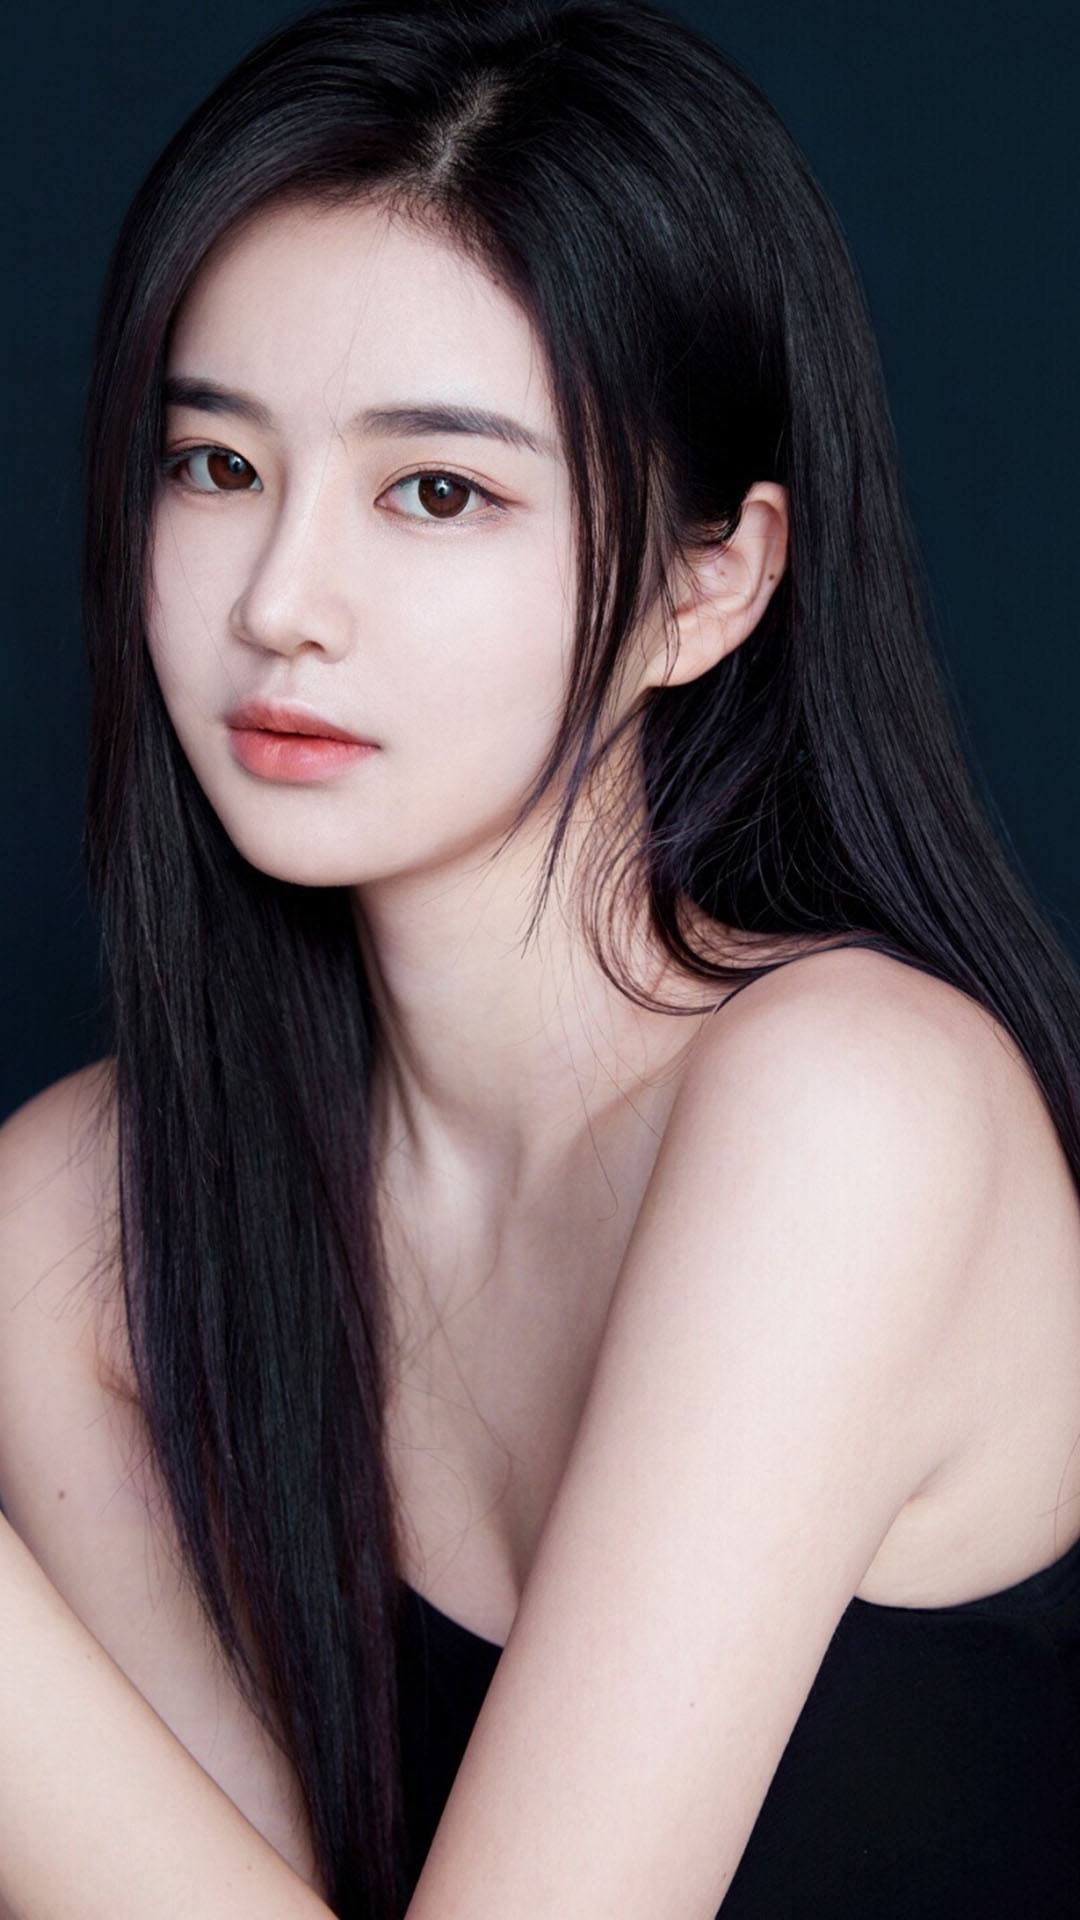person: (79, 47, 1080, 1712)
